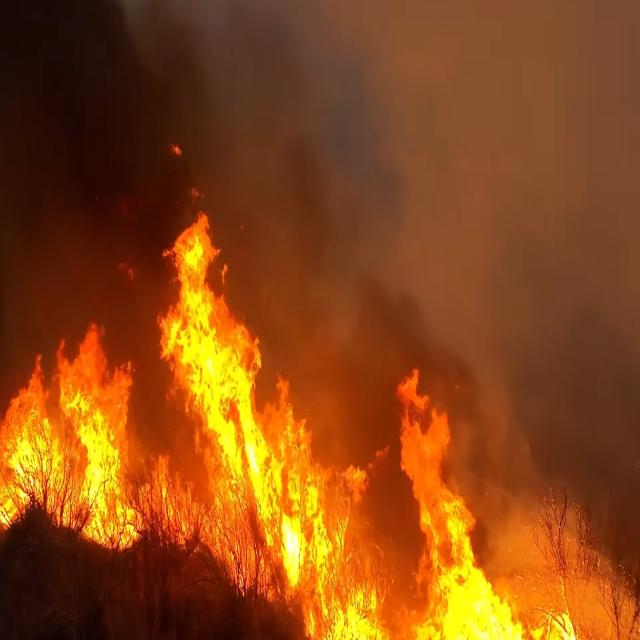fire: (154, 211, 379, 640), (399, 394, 627, 640), (0, 308, 139, 571)
